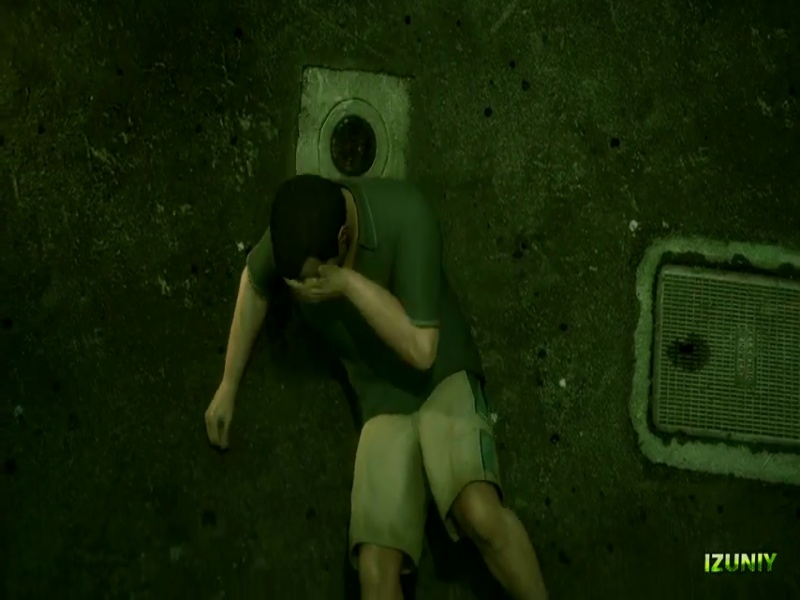human: (201, 167, 561, 596)
